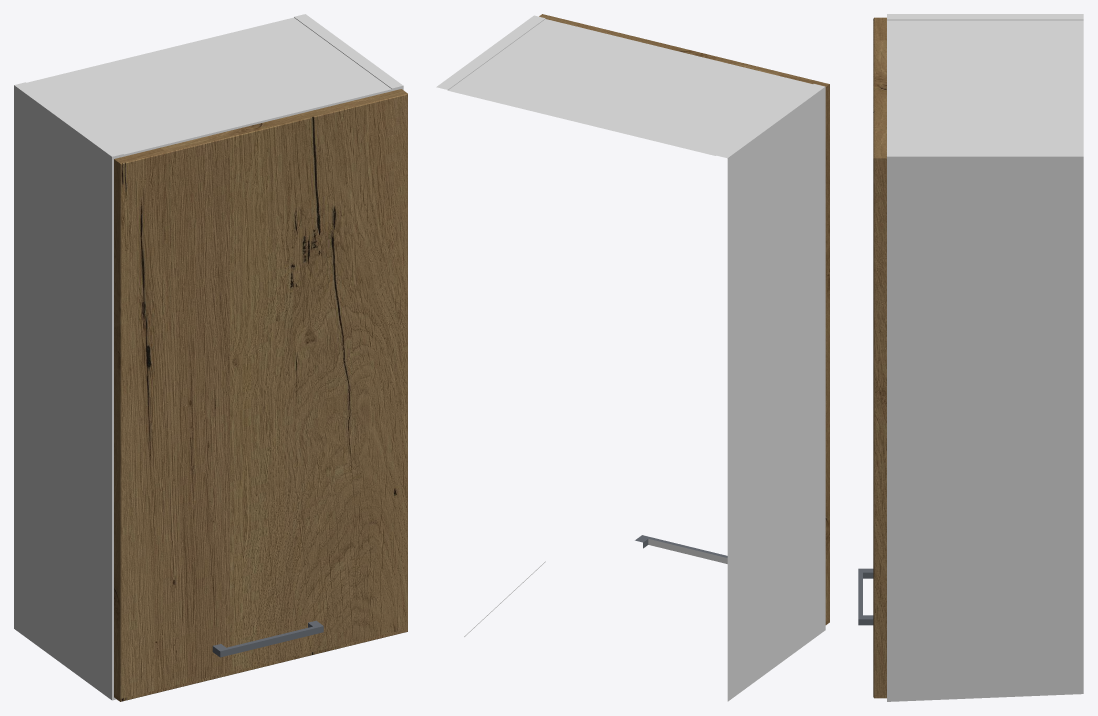
Rendered from gornji_45cm.glb.
The picture shows the model from 3 angles, left to right: view 1: azimuth 30°, elevation 25°; view 2: azimuth 150°, elevation 25°; view 3: azimuth 270°, elevation 25°; orthographic projection.
Parts seen in each view (by area): view 1: Model; view 2: Model; view 3: Model.
Part boxes in pixels (box(x1,y1,x2,y2)): Model: box(14, 14, 407, 701); Model: box(436, 14, 829, 701); Model: box(858, 14, 1083, 701).
Bounding box in the file's own units: 450 × 802 × 300.
6 materials, 1 textured.
